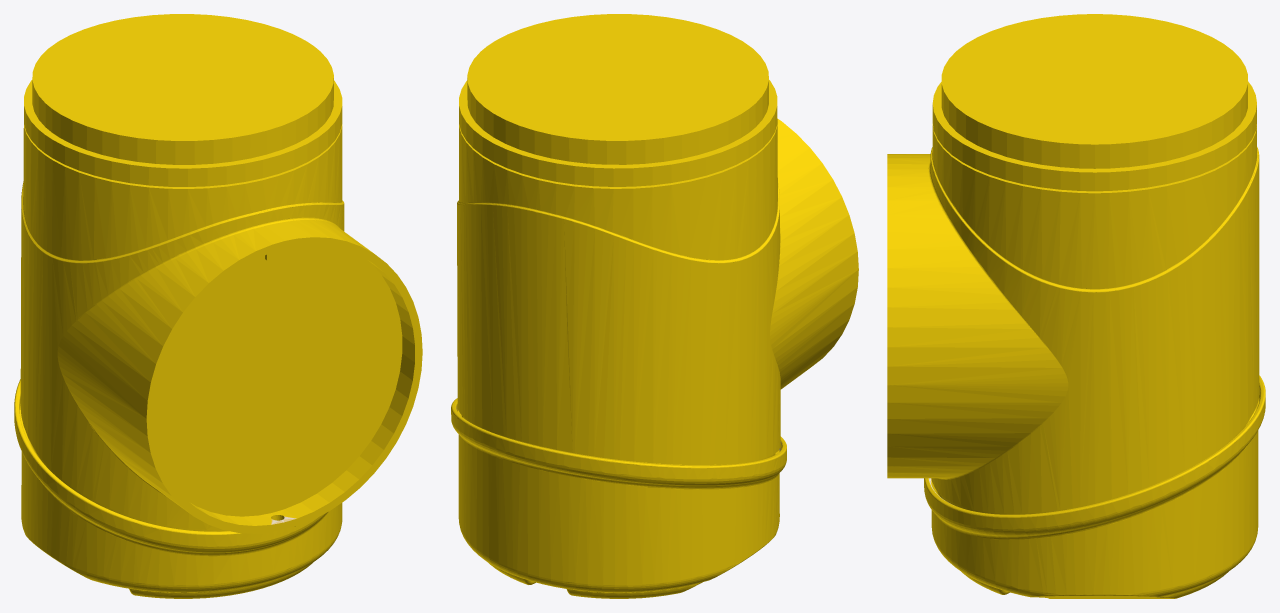
Rendered from AuboI5Link5.dae.
The picture shows the model from 3 angles, left to right: view 1: azimuth 30°, elevation 25°; view 2: azimuth 150°, elevation 25°; view 3: azimuth 270°, elevation 25°; orthographic projection.
Parts seen in each view (by area): view 1: Auboi5Link5; view 2: Auboi5Link5; view 3: Auboi5Link5.
Boxes of the visible parts, x1,y1,x2,y2 form: Auboi5Link5: (14,14,422,598); Auboi5Link5: (451,14,858,598); Auboi5Link5: (887,14,1265,598).
Bounding box in the file's own units: 0.079 × 0.0875 × 0.1204.
